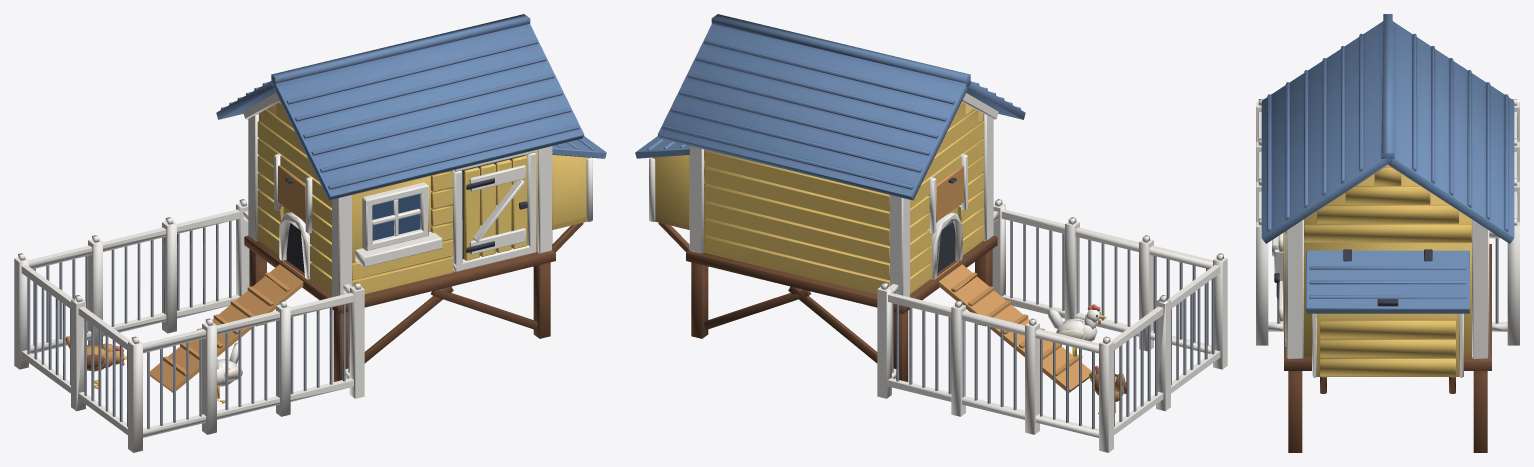
Rendered from kandang_r4.glb.
The picture shows the model from 3 angles, left to right: view 1: azimuth 30°, elevation 25°; view 2: azimuth 150°, elevation 25°; view 3: azimuth 270°, elevation 25°; orthographic projection. The views are drawn at different scales.
Parts seen in each view (by area): view 1: chicken-coop_body, chicken-coop_run, chicken-coop_details, chicken-coop_run_wire, chicken-coop_door, chicken-coop_nest_lid; view 2: chicken-coop_body, chicken-coop_run, chicken-coop_run_wire, chicken-coop_details, chicken-coop_nest_lid; view 3: chicken-coop_body, chicken-coop_nest_lid, chicken-coop_details, chicken-coop_run, chicken-coop_door, chicken-coop_run_wire.
Boxes of the visible parts, x1=… form: chicken-coop_body: x1=216, y1=14, x2=589, y2=381; chicken-coop_run: x1=14, y1=199, x2=364, y2=452; chicken-coop_details: x1=243, y1=93, x2=592, y2=296; chicken-coop_run_wire: x1=27, y1=221, x2=349, y2=429; chicken-coop_door: x1=464, y1=155, x2=527, y2=260; chicken-coop_nest_lid: x1=552, y1=136, x2=606, y2=158; chicken-coop_body: x1=652, y1=14, x2=1025, y2=381; chicken-coop_run: x1=877, y1=199, x2=1227, y2=452; chicken-coop_run_wire: x1=892, y1=221, x2=1214, y2=429; chicken-coop_details: x1=649, y1=93, x2=998, y2=296; chicken-coop_nest_lid: x1=635, y1=136, x2=689, y2=158; chicken-coop_body: x1=1261, y1=14, x2=1514, y2=452; chicken-coop_nest_lid: x1=1306, y1=249, x2=1469, y2=313; chicken-coop_details: x1=1272, y1=164, x2=1489, y2=393; chicken-coop_run: x1=1256, y1=99, x2=1519, y2=345; chicken-coop_door: x1=1274, y1=232, x2=1284, y2=330; chicken-coop_run_wire: x1=1277, y1=238, x2=1498, y2=323.
Bounding box in the file's own units: 3.62 × 1.99 × 1.51.
18 materials, 1 textured.
